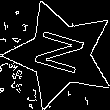N_E: (29, 28, 92, 81)
